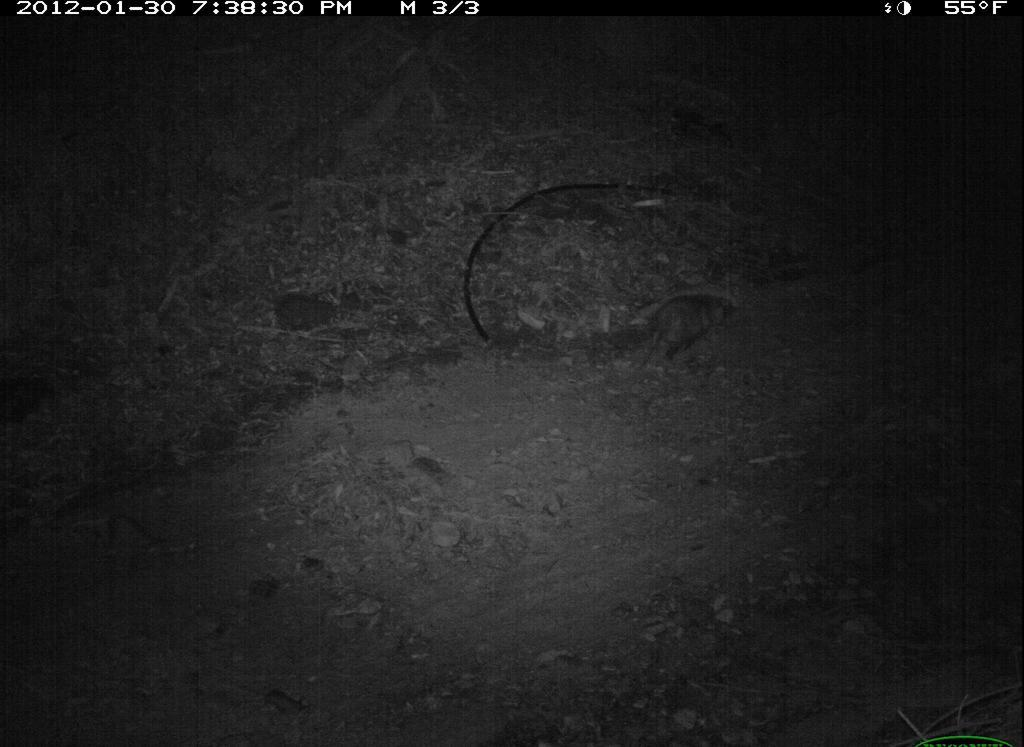opossum: (628, 283, 737, 387)
